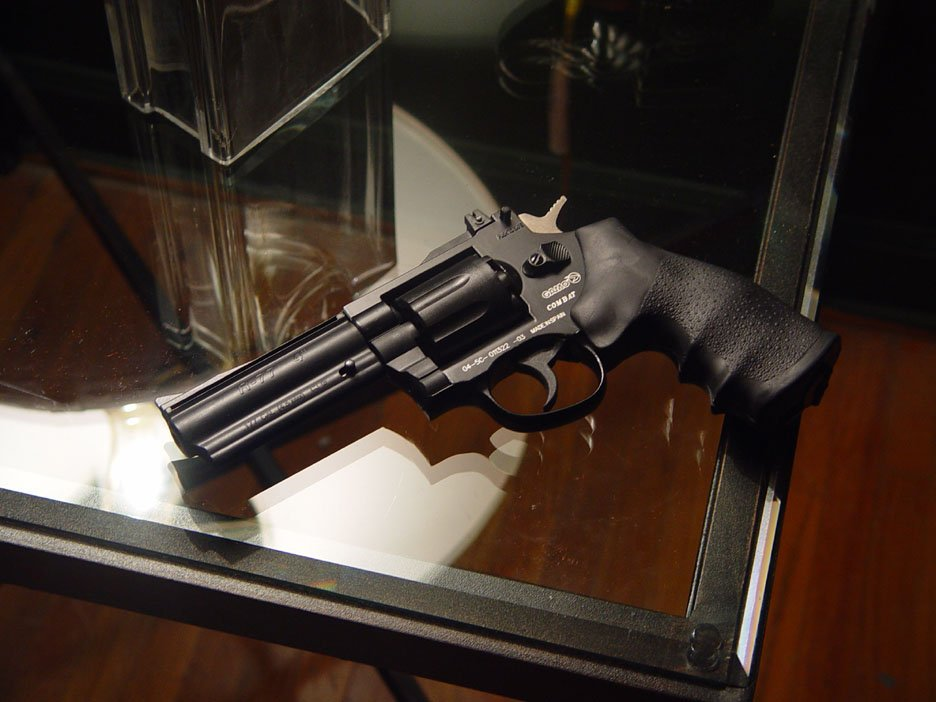gun: (152, 188, 845, 466)
